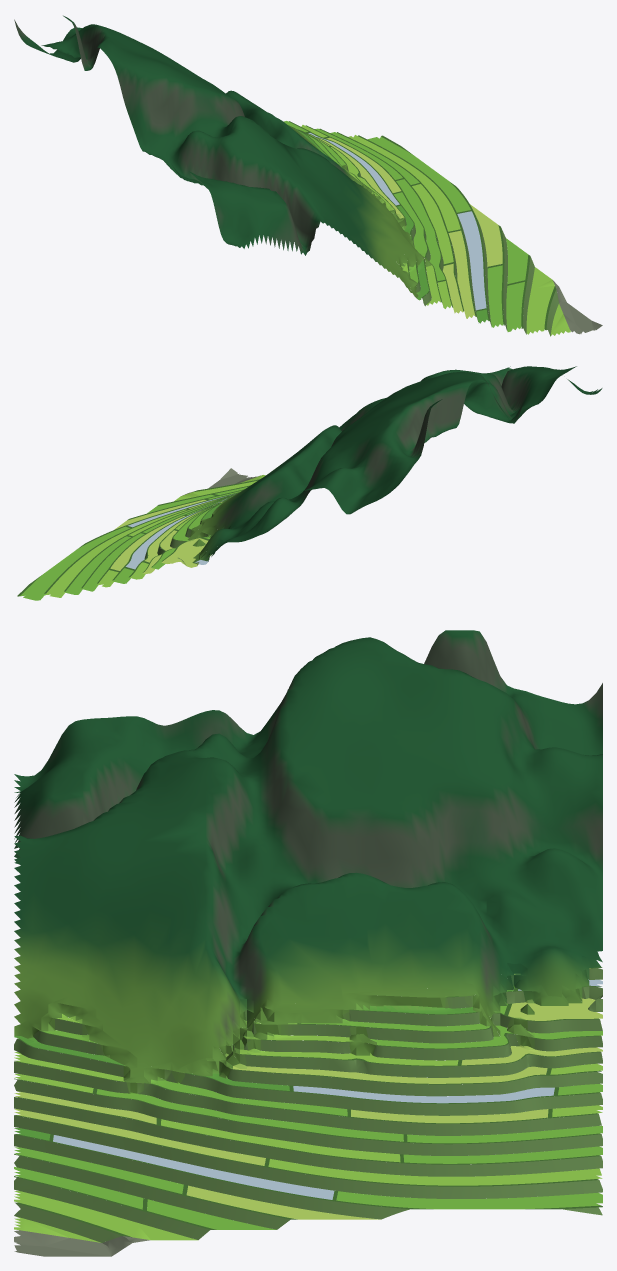
File: payo_land_x0_y1_lod1.glb
3 views of the same model, one above another, from view 1: azimuth 30°, elevation 25°; view 2: azimuth 150°, elevation 25°; view 3: azimuth 270°, elevation 25° (orthographic). The views are drawn at different scales.
Parts seen in each view (by area): view 1: payo_land_x0_y1; view 2: payo_land_x0_y1; view 3: payo_land_x0_y1.
Boxes of the visible parts, left/top/right/bottom form: payo_land_x0_y1: left=14, top=15, right=602, bottom=336; payo_land_x0_y1: left=17, top=366, right=602, bottom=600; payo_land_x0_y1: left=14, top=630, right=602, bottom=1256.
Size of the model in its own units: 255 by 184 by 258.
